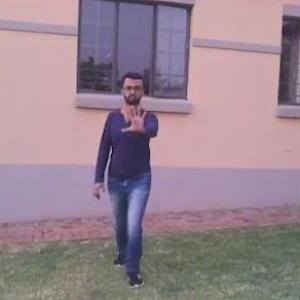follow_hand: (119, 100, 150, 138)
